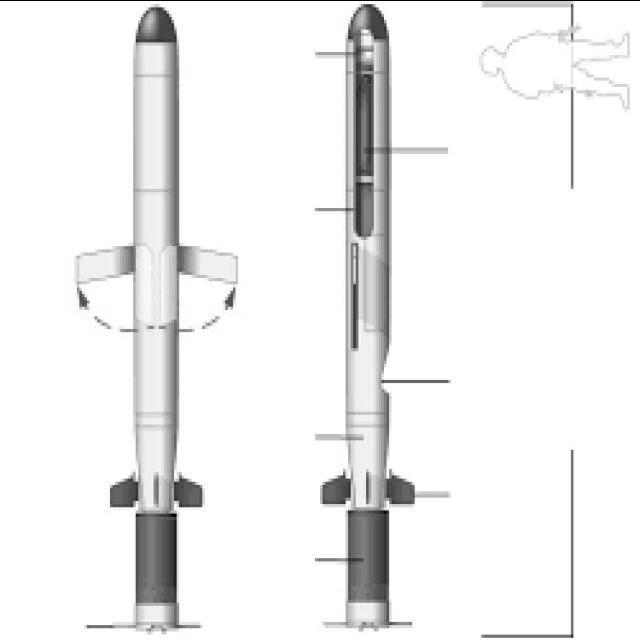missile: (296, 0, 446, 640)
